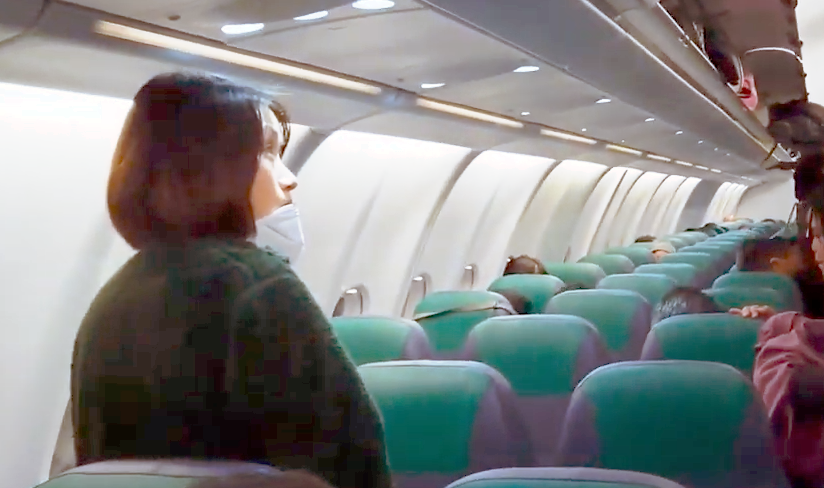mask_weared_incorrect: (186, 68, 308, 265)
